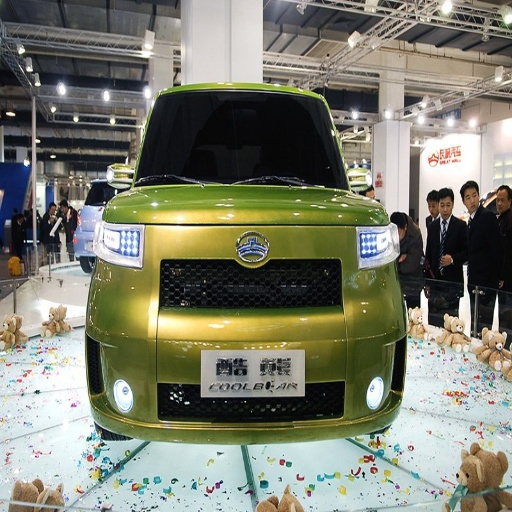front_right_light: (101, 222, 143, 266)
tailgate: (325, 216, 370, 275)
trunk: (223, 187, 364, 280)
